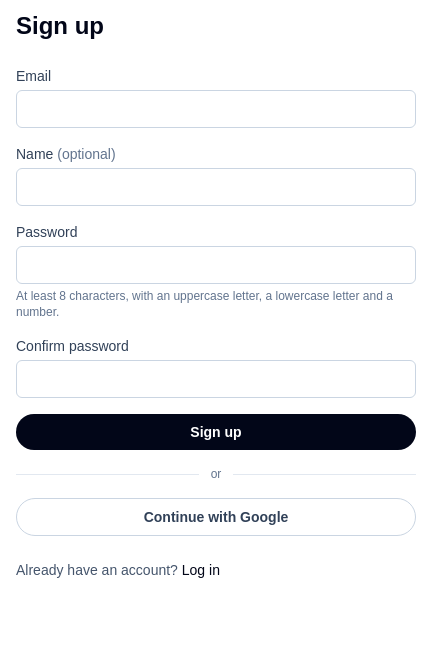
it: RegisterForm › shows the server's error message when registration fails
This screenshot has width=433, height=657.
Type "jane@example.com" into the field labelled "Email" at coordinates (216, 109), box [16,90,416,128]
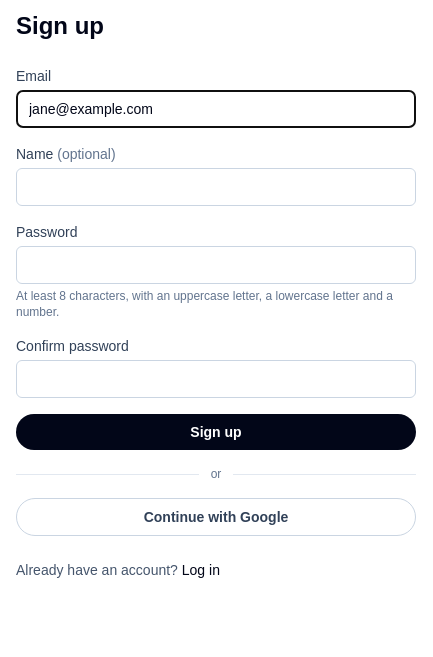
Type "Passw0rd!" into the password field labelled "Password" at coordinates (216, 265), box [16,246,416,284]
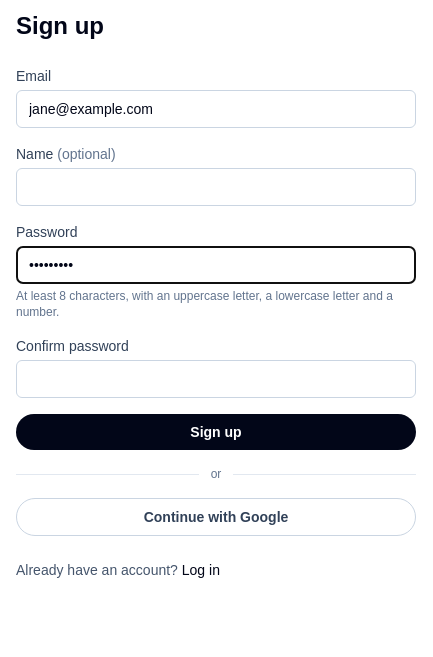
Type "Passw0rd!" into the password field labelled "Confirm password" at coordinates (216, 379), box [16,360,416,398]
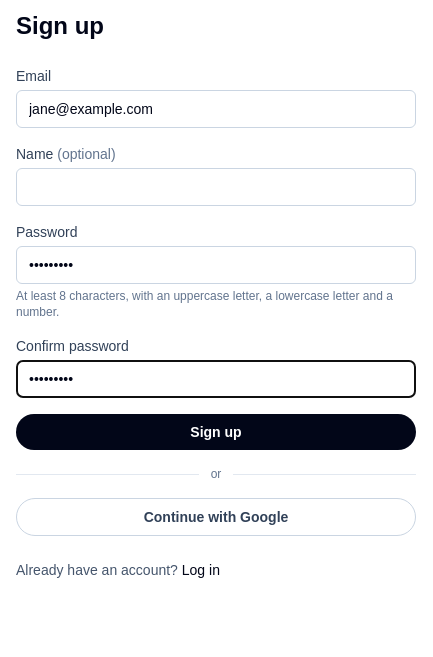
Click the button "Sign up" at coordinates (216, 432), box [16,414,416,450]
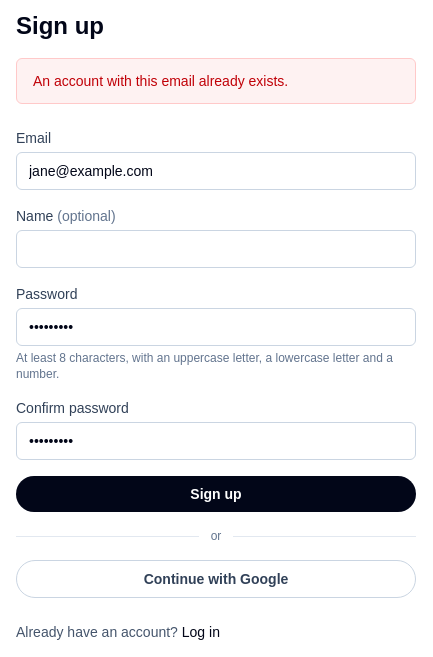
Expected: the message reads "An account with this email already exists.", [33,73,288,89]
